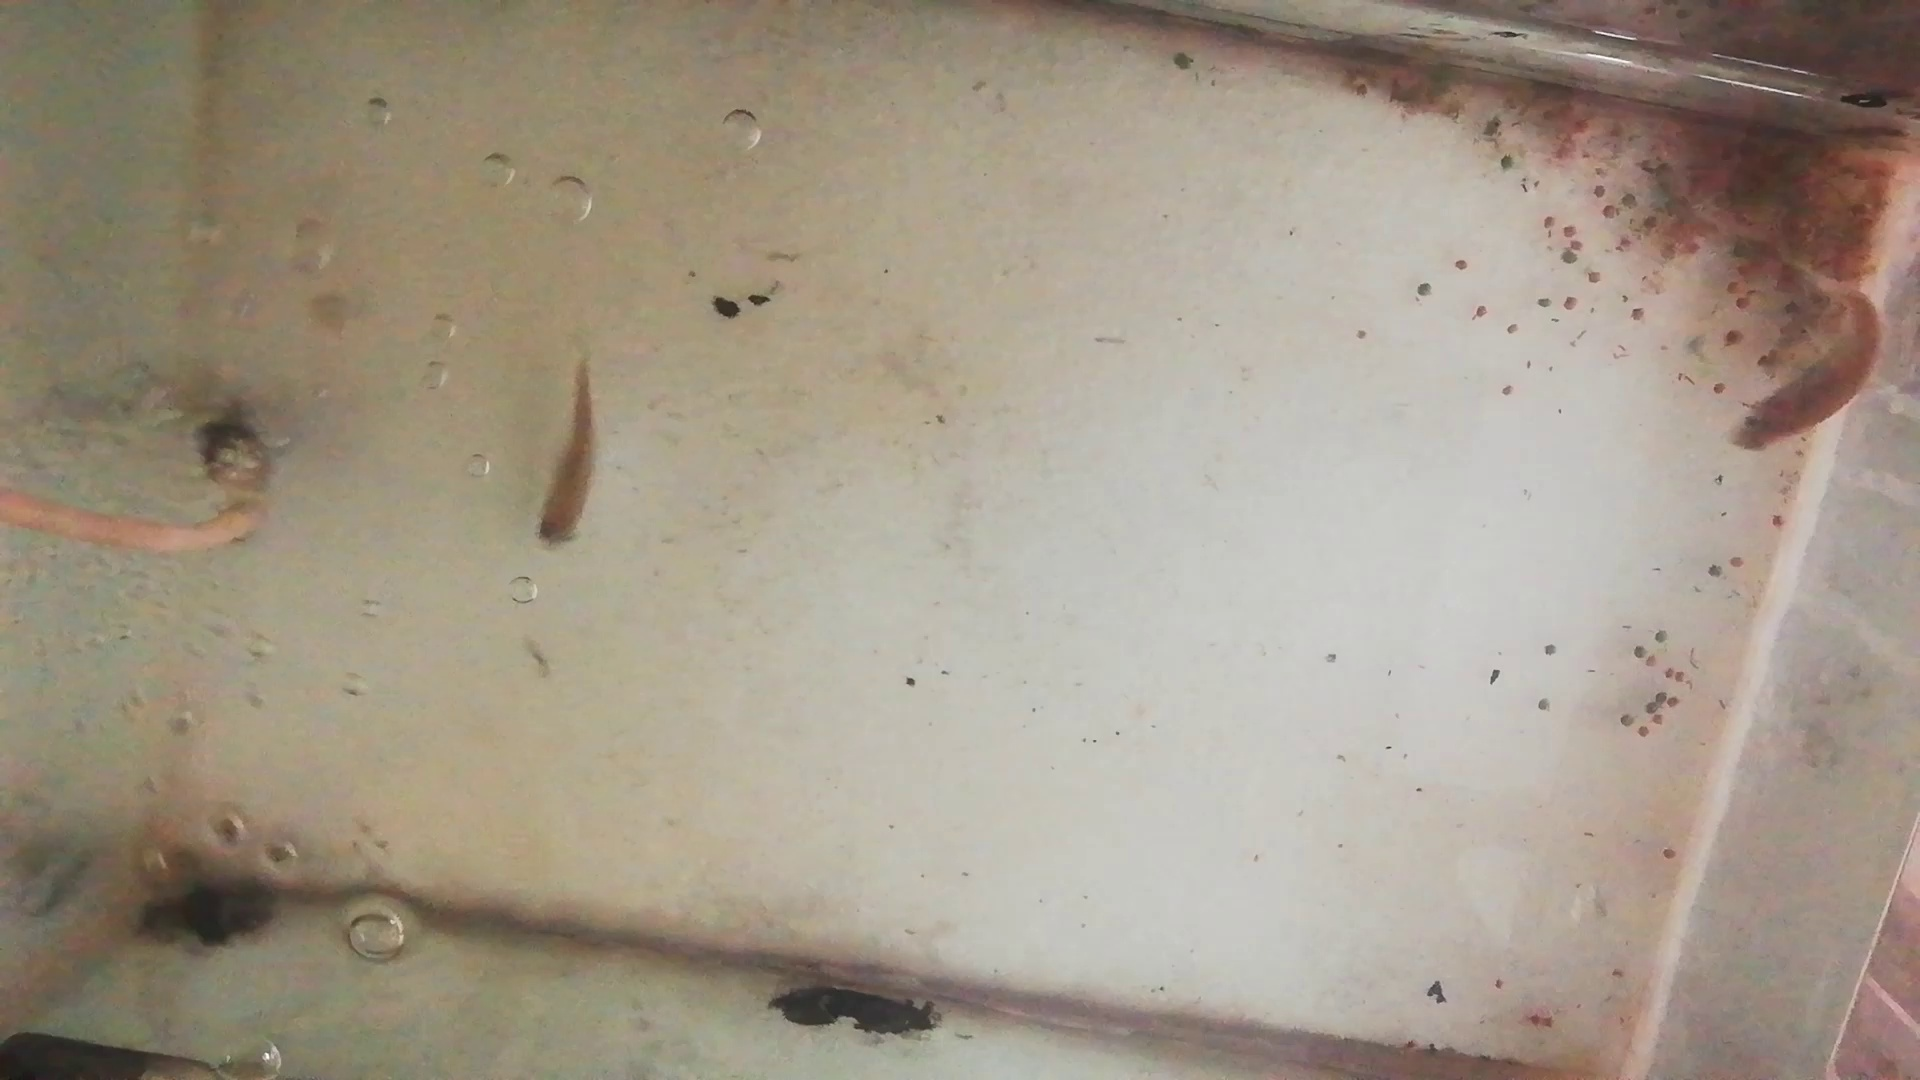fish: (1725, 282, 1884, 458), (530, 363, 597, 553)
